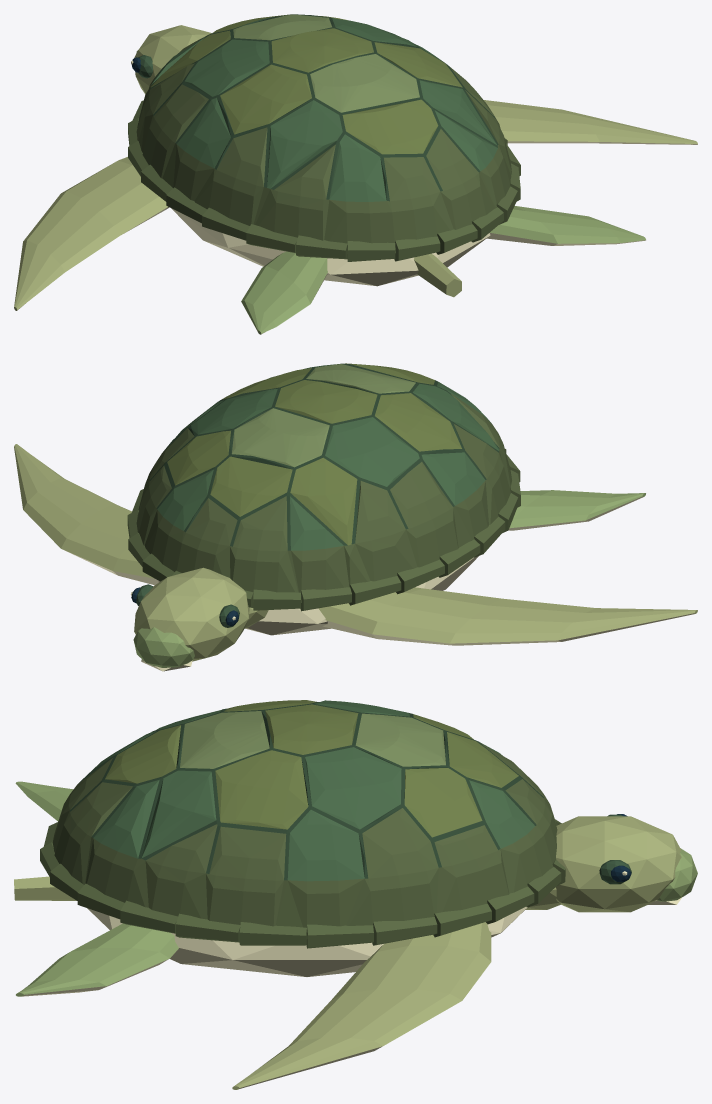
The model's file is wild_turtle.glb.
3 views of the same model, one above another, from view 1: azimuth 30°, elevation 25°; view 2: azimuth 150°, elevation 25°; view 3: azimuth 270°, elevation 25° (orthographic). The views are drawn at different scales.
Parts seen in each view (by area): view 1: plastron, swept front flipper, swept front flipper.001, short steering paddle, short steering paddle.001, short neck, small tail; view 2: plastron, swept front flipper, short neck, swept front flipper.001, short steering paddle; view 3: plastron, swept front flipper.001, short neck, short steering paddle.001, short steering paddle, small tail.
Part boxes in pixels (x1,y1,x2,y2): plastron: (128, 14, 520, 286); swept front flipper: (14, 157, 169, 310); swept front flipper.001: (484, 100, 697, 144); short steering paddle: (241, 251, 327, 334); short steering paddle.001: (487, 206, 645, 245); short neck: (131, 25, 211, 94); small tail: (414, 253, 461, 297); plastron: (127, 363, 520, 635); swept front flipper: (318, 587, 697, 645); short neck: (131, 567, 268, 671); swept front flipper.001: (14, 444, 158, 585); short steering paddle: (509, 490, 645, 530); plastron: (40, 700, 565, 976); swept front flipper.001: (232, 922, 491, 1089); short neck: (525, 814, 697, 912); short steering paddle.001: (16, 923, 178, 996); short steering paddle: (15, 781, 73, 821); small tail: (14, 876, 76, 900).
Bounding box in the file's own units: 1.68 × 0.443 × 1.3.
